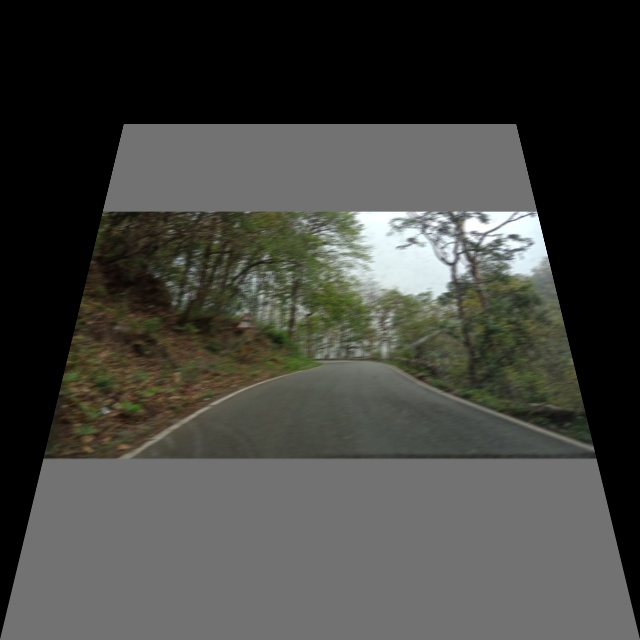Left_Hand_Curve: (235, 309, 255, 332)
